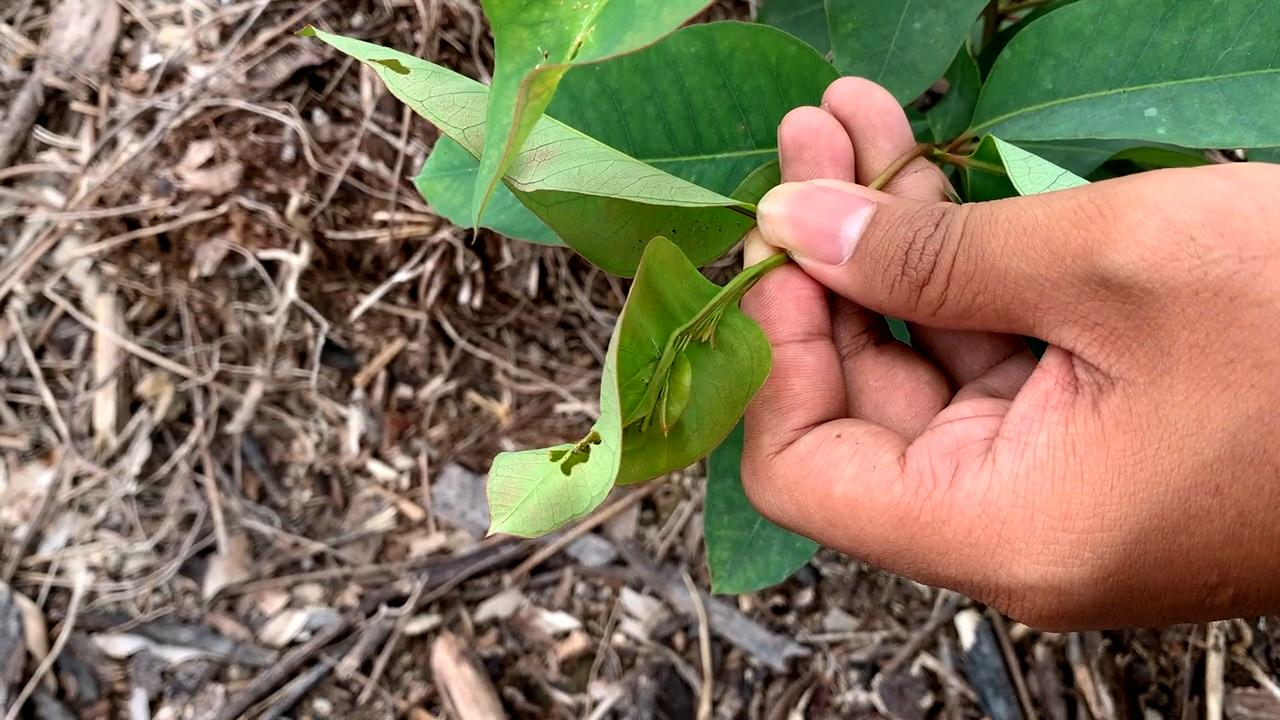Leaf Roller - Leaf: (467, 252, 784, 539)
